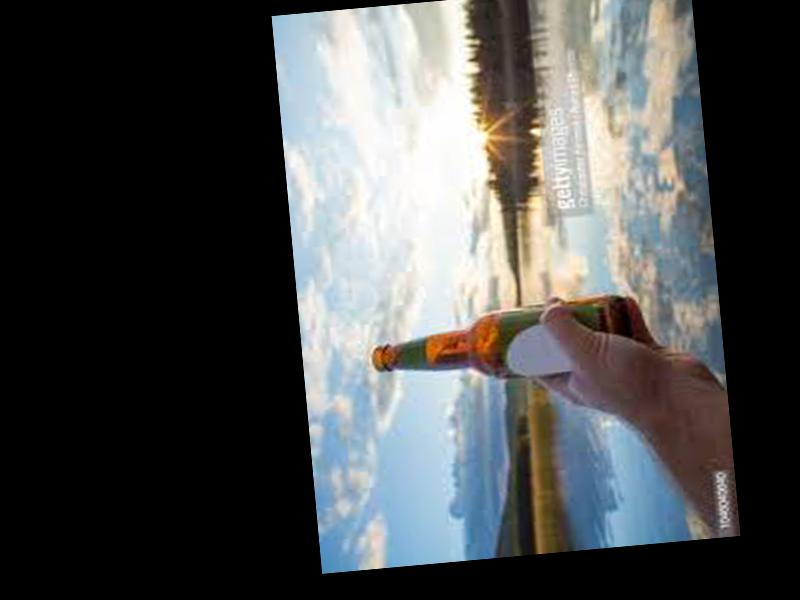Beer: (368, 292, 631, 392)
